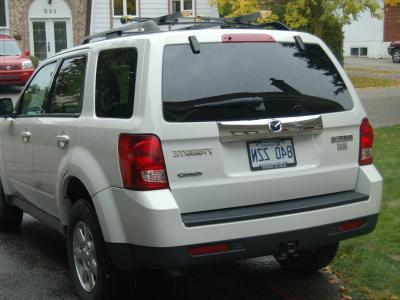Car: (2, 20, 396, 300), (2, 25, 44, 104)
